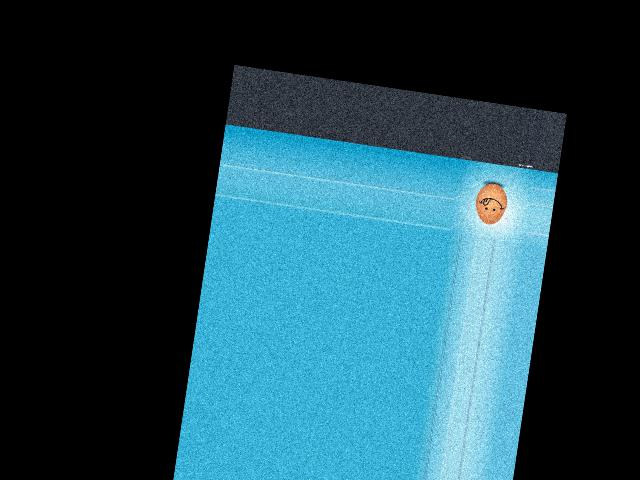egg: (472, 181, 509, 226)
